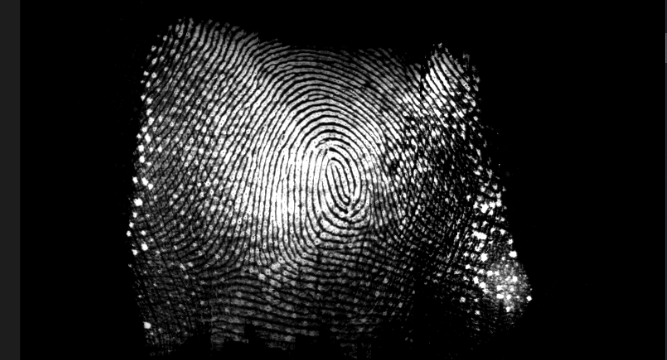deltas: (219, 241, 279, 292)
nucleo: (319, 155, 356, 204)
